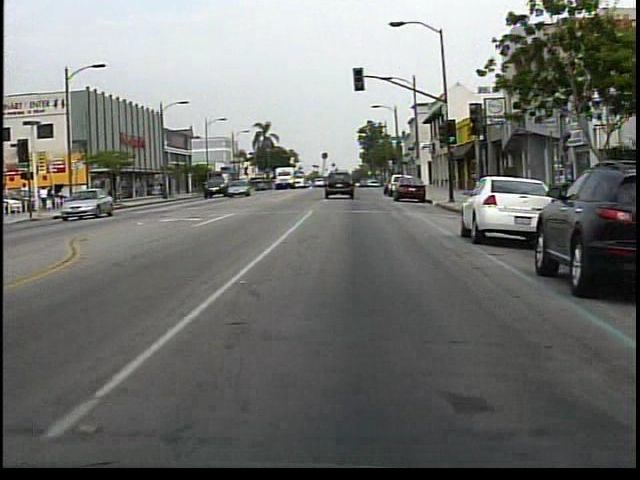person: (39, 183, 53, 213)
